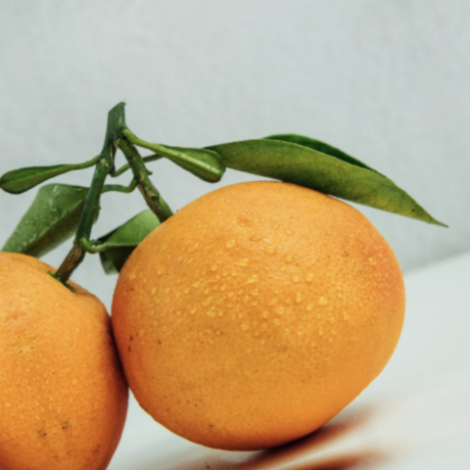orange: (38, 104, 470, 470)
